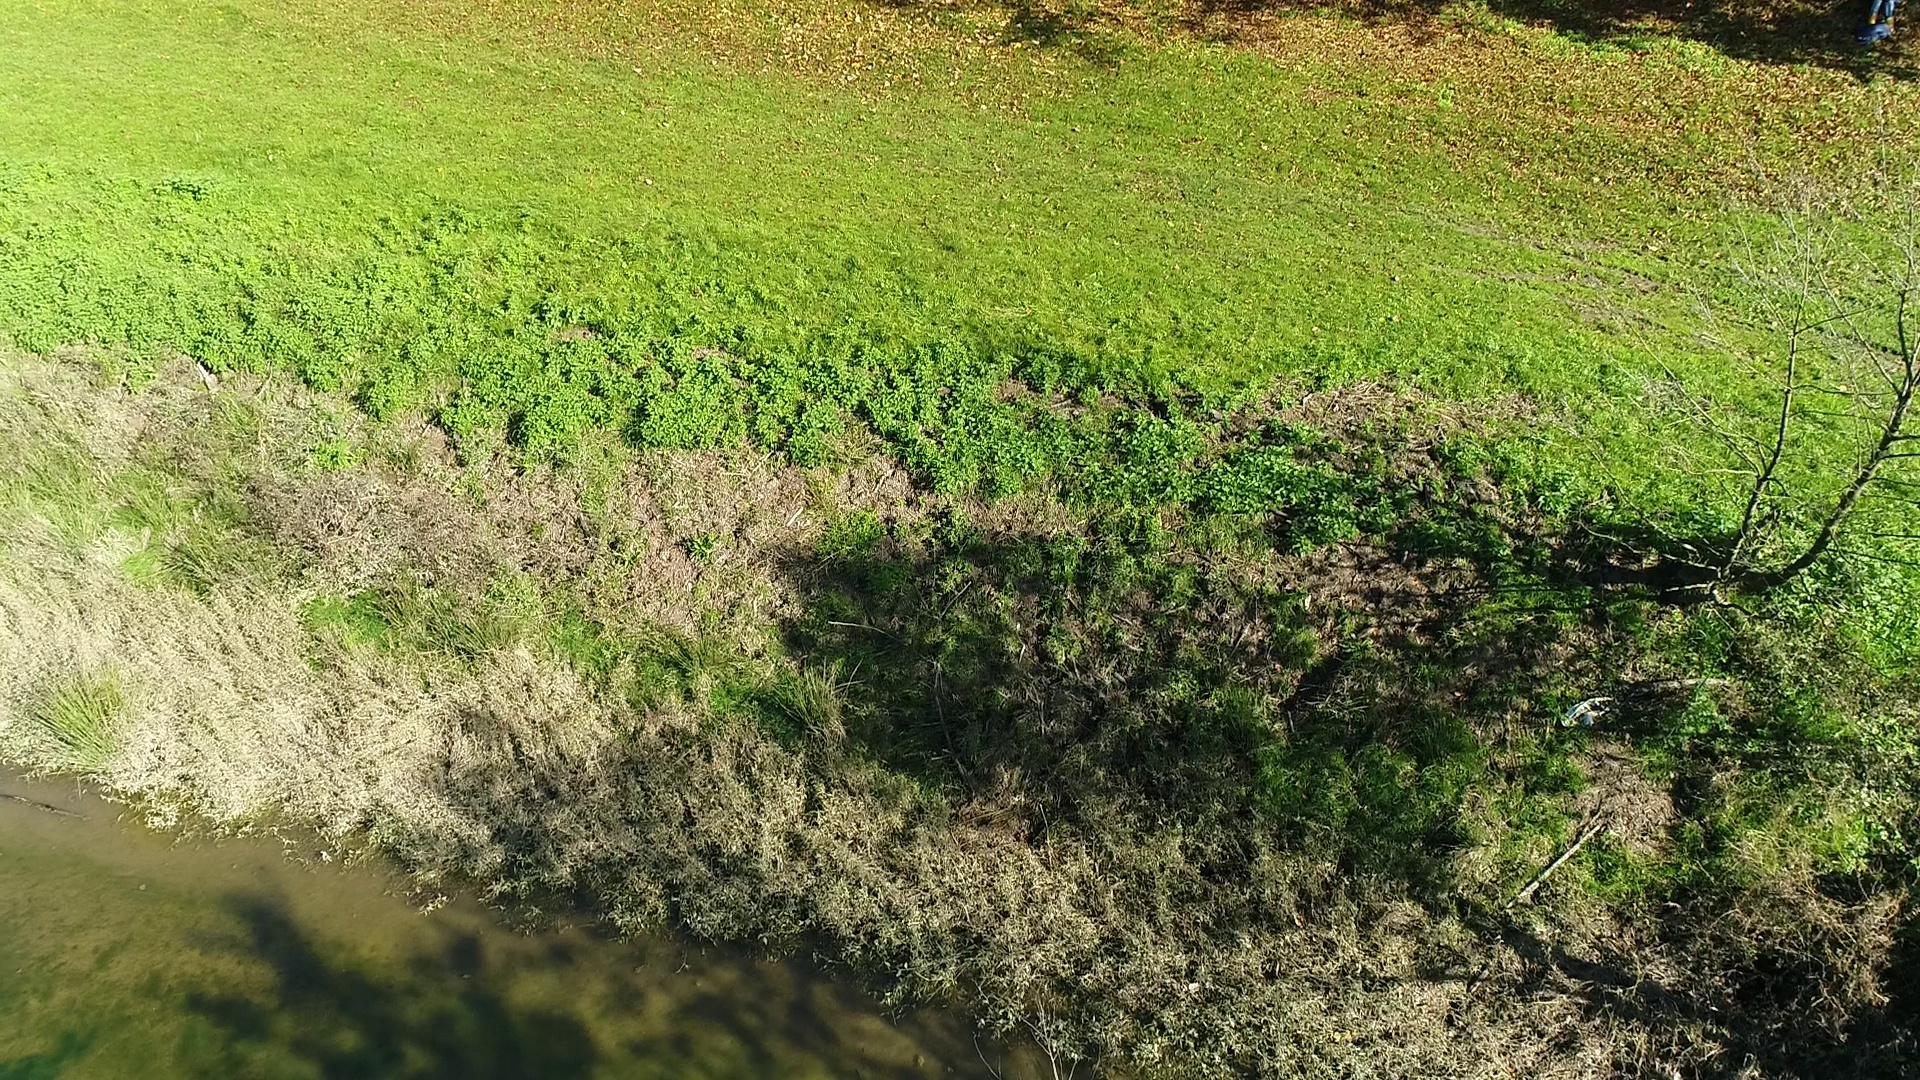not_defined: (1867, 1, 1905, 36)
